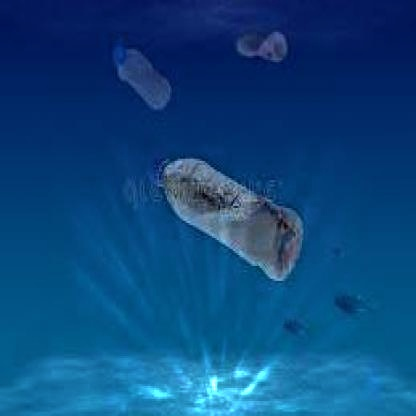pbottle: (155, 146, 304, 291), (98, 28, 180, 118), (223, 26, 296, 70)
